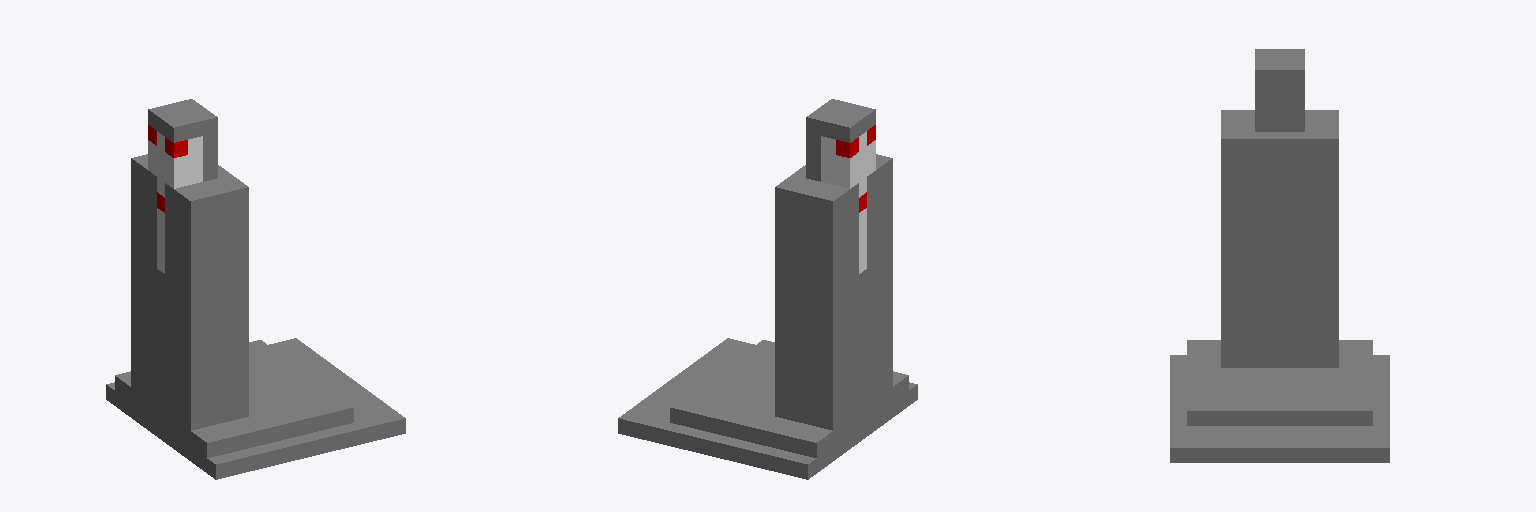
The picture shows the model from 3 angles: view 1: azimuth 30°, elevation 25°; view 2: azimuth 150°, elevation 25°; view 3: azimuth 270°, elevation 25°; orthographic projection.
Parts seen in each view (by area): view 1: object 1; view 2: object 1; view 3: object 1.
Boxes of the visible parts, x1,y1,x2,y2 form: object 1: [106, 99, 405, 479]; object 1: [618, 99, 917, 479]; object 1: [1170, 49, 1389, 462].
Size of the model in its own units: 1.3 by 2.1 by 1.3.
Materials: 1 (1 with a texture image).